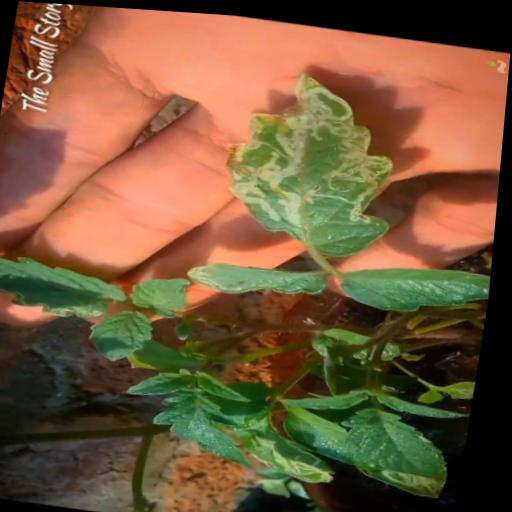Healthy: (332, 249, 496, 320), (153, 385, 269, 468), (89, 304, 163, 366), (128, 357, 204, 401), (131, 270, 197, 319)
Leaf_Miner: (209, 58, 416, 260), (334, 397, 465, 497), (0, 249, 139, 324), (235, 411, 349, 481), (188, 250, 335, 304)
